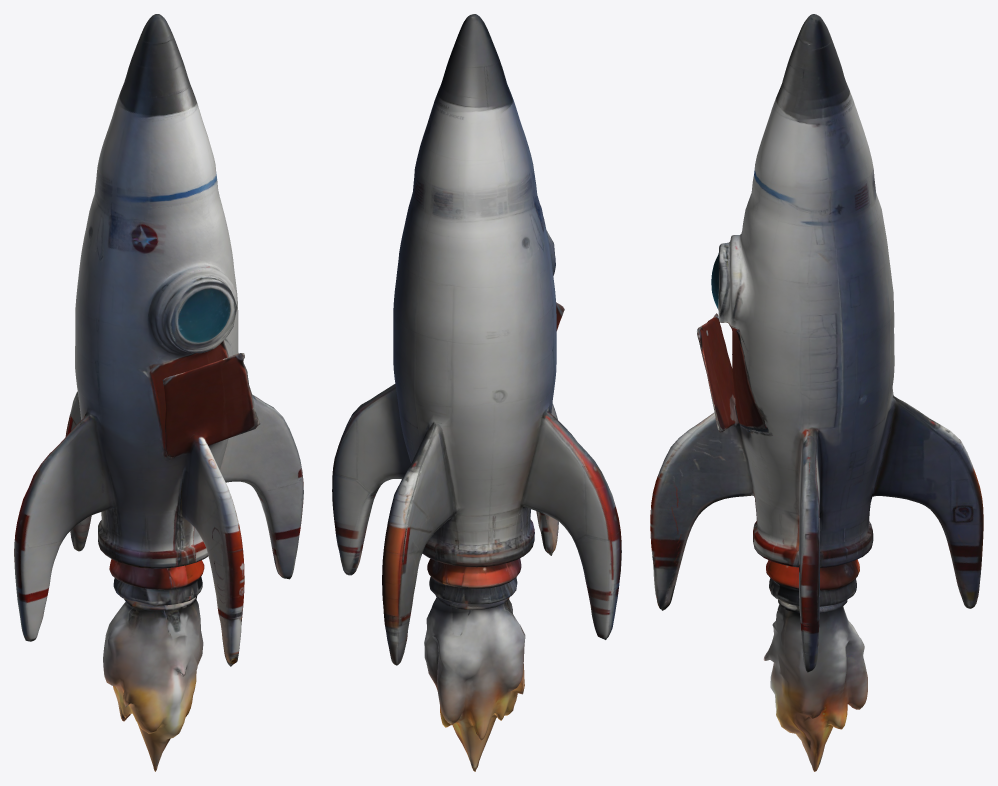
File: rocket.glb
3 renders of one model, left to right at view 1: azimuth 30°, elevation 25°; view 2: azimuth 150°, elevation 25°; view 3: azimuth 270°, elevation 25°, orthographic.
Bounding box in the file's own units: 0.7822 × 2 × 0.7957.
1 material, 1 textured.
